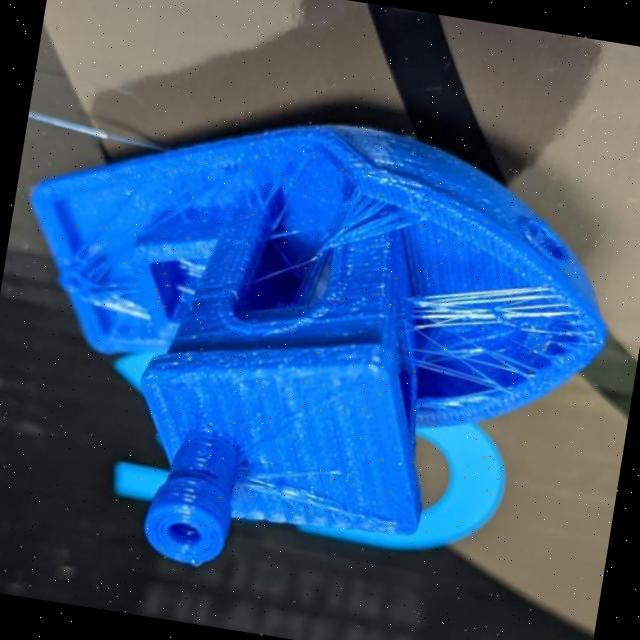stringing: (417, 270, 560, 341), (436, 326, 525, 393), (335, 193, 403, 248)
